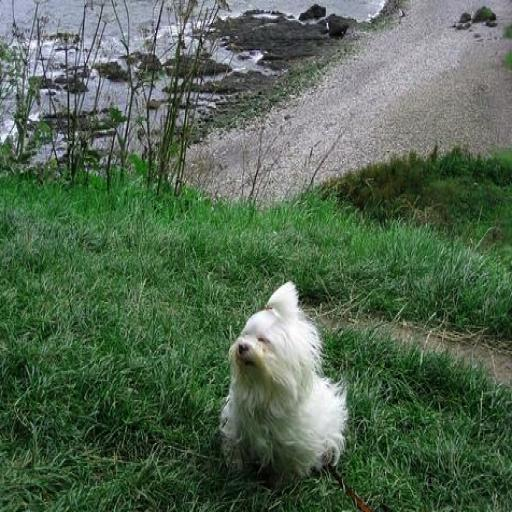dog_face: (228, 286, 309, 403)
